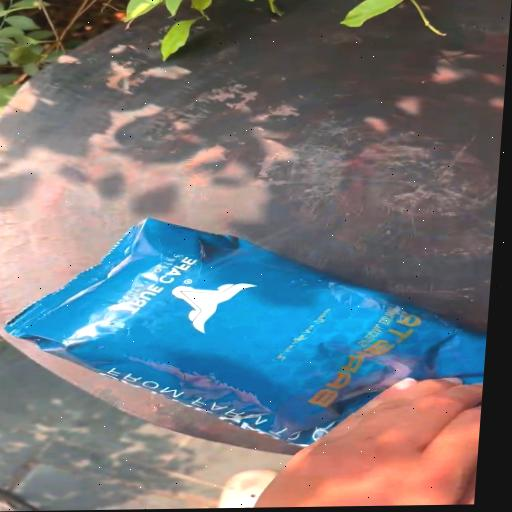cafe_hat: (6, 219, 486, 446)
